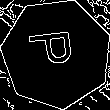P_E: (29, 32, 84, 75)
